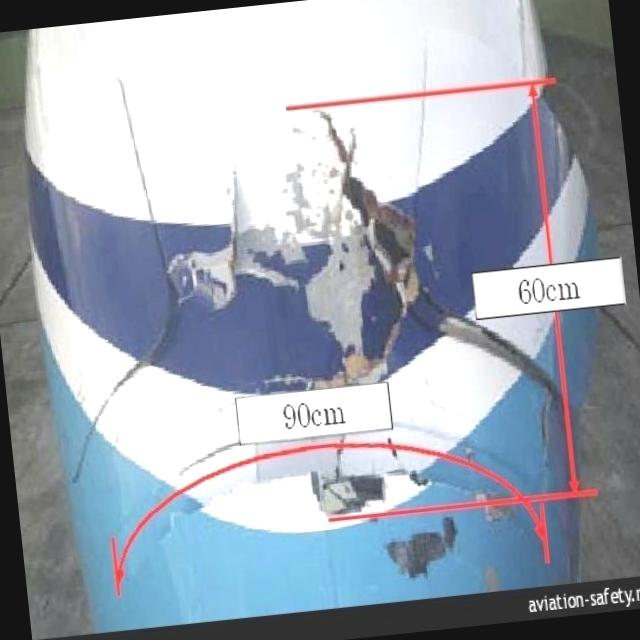crack: (316, 90, 565, 436), (208, 158, 255, 308)
